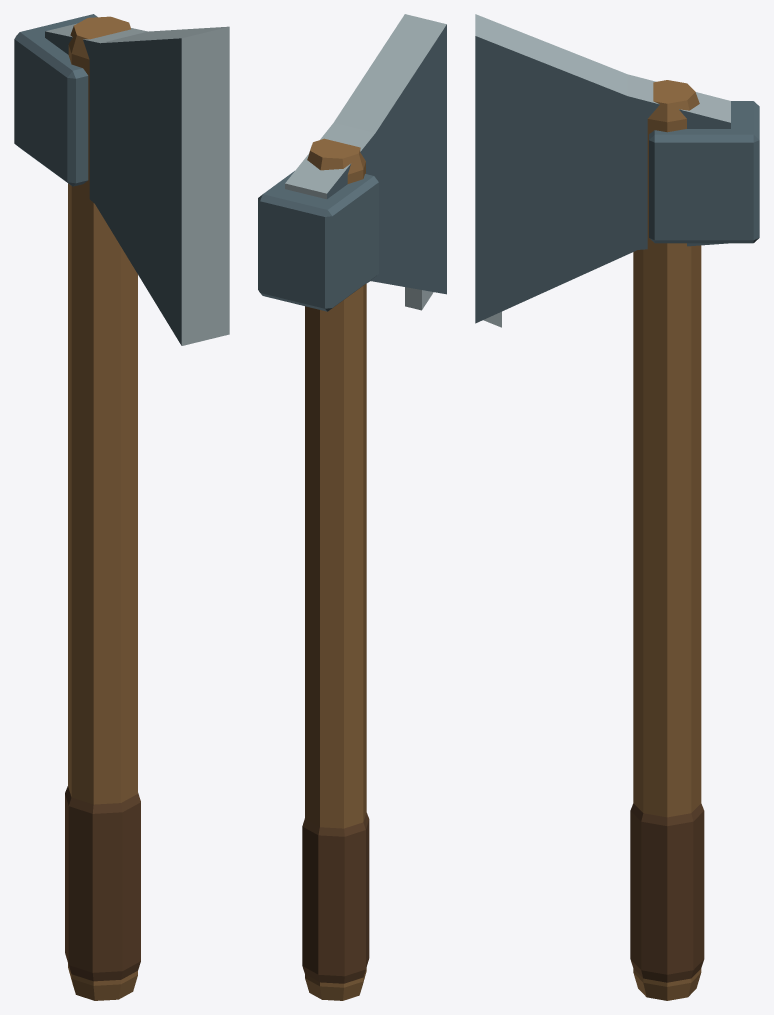
File: Axe.fbx
3 renders of one model, left to right at view 1: azimuth 30°, elevation 25°; view 2: azimuth 150°, elevation 25°; view 3: azimuth 270°, elevation 25°, orthographic. The views are drawn at different scales.
Parts seen in each view (by area): view 1: Axe; view 2: Axe; view 3: Axe.
Boxes of the visible parts, <box> form: Axe: <box>14,14,229,1000</box>; Axe: <box>258,14,446,1000</box>; Axe: <box>475,14,759,1000</box>.
Size of the model in its own units: 6.2 by 72 by 19.25.
